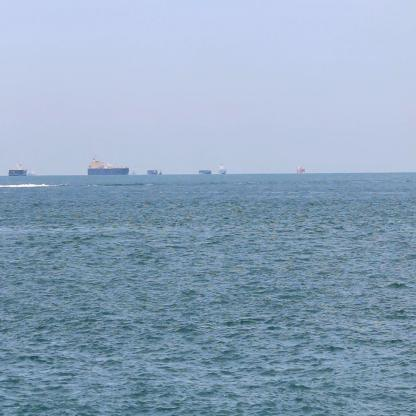Container Ship: (87, 153, 129, 176), (8, 160, 29, 176), (296, 162, 306, 175), (218, 162, 227, 174), (198, 167, 212, 174), (28, 169, 39, 177), (146, 168, 159, 174), (131, 166, 138, 176), (158, 167, 163, 174)
